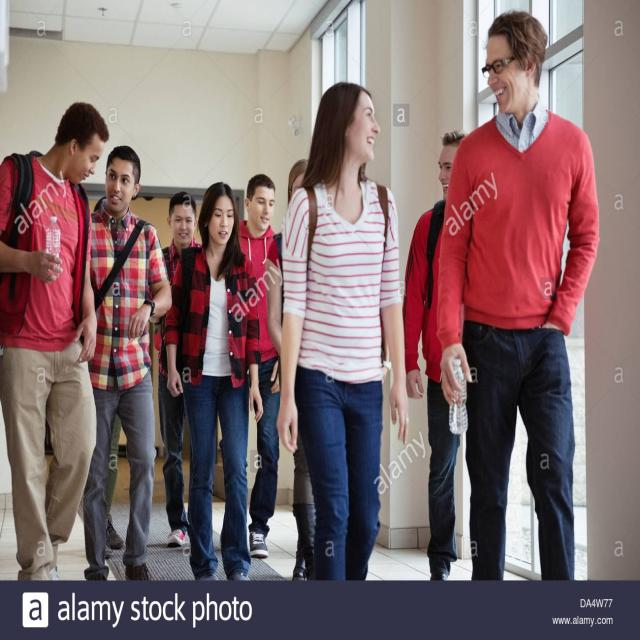body: (431, 5, 604, 639), (274, 78, 411, 581), (0, 94, 111, 584), (162, 180, 266, 583), (82, 145, 174, 582), (264, 156, 348, 580), (402, 128, 472, 580), (154, 190, 218, 548), (236, 171, 281, 560), (73, 396, 133, 554), (87, 190, 117, 226)
